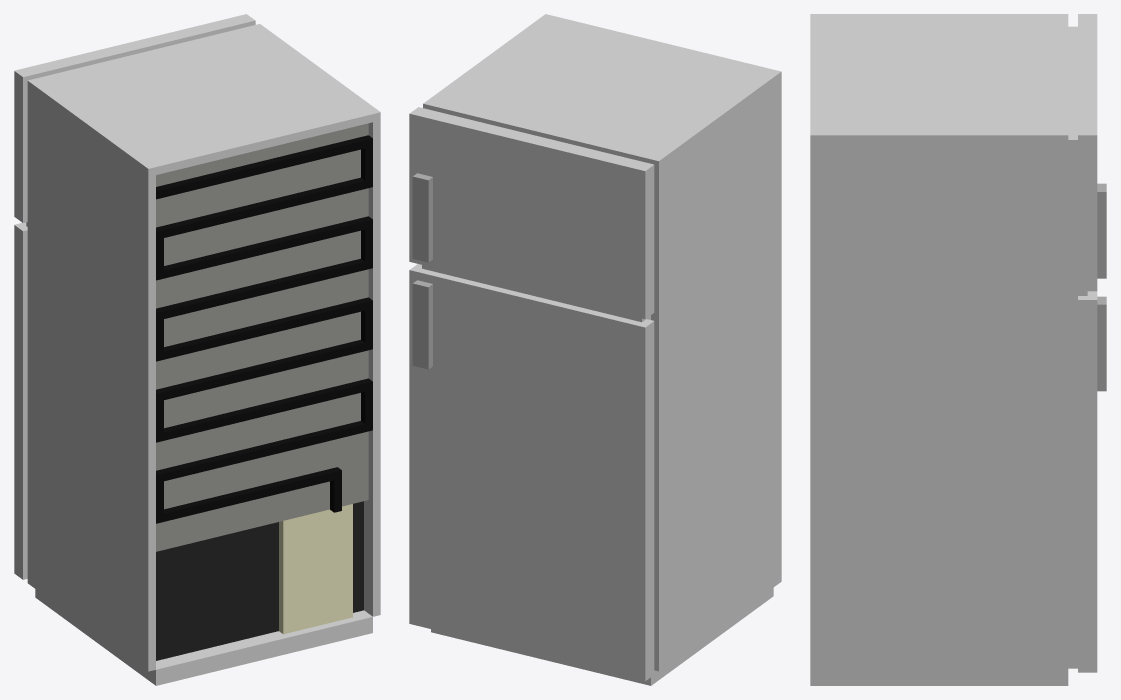
File: fridge_01.glb
The picture shows the model from 3 angles, left to right: view 1: azimuth 30°, elevation 25°; view 2: azimuth 150°, elevation 25°; view 3: azimuth 270°, elevation 25°; orthographic projection. The views are drawn at different scales.
Parts seen in each view (by area): view 1: Untitled; view 2: Untitled; view 3: Untitled.
Part boxes in pixels (left/top/right/bottom): Untitled: left=14, top=14, right=380, bottom=685; Untitled: left=409, top=14, right=781, bottom=685; Untitled: left=810, top=14, right=1106, bottom=685.
Size of the model in its own units: 0.9 by 1.92 by 0.93.
Materials: 1 (1 with a texture image).
